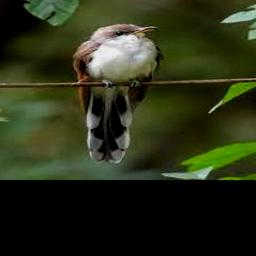Cuckoo: (73, 24, 165, 165)
